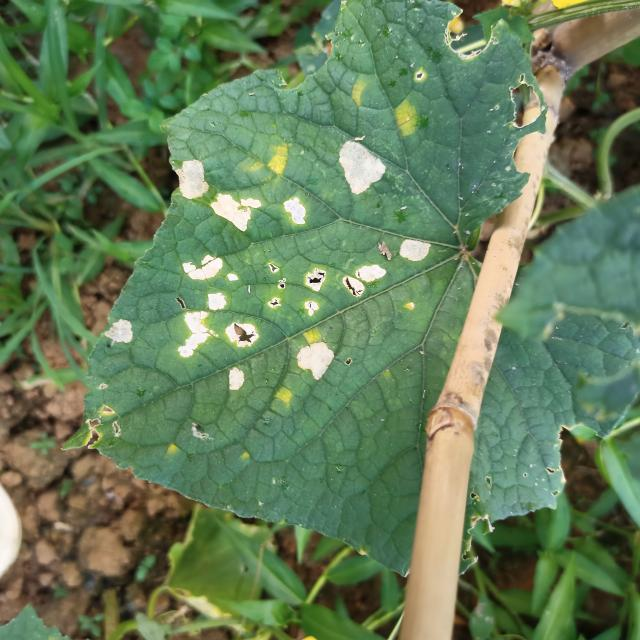disease_cucumber: (149, 234, 445, 395), (336, 134, 389, 196), (206, 191, 266, 237), (246, 138, 295, 180), (168, 157, 208, 204), (276, 195, 315, 235), (391, 98, 422, 140), (99, 319, 138, 352), (268, 384, 299, 412), (344, 79, 371, 107), (300, 326, 325, 344)
